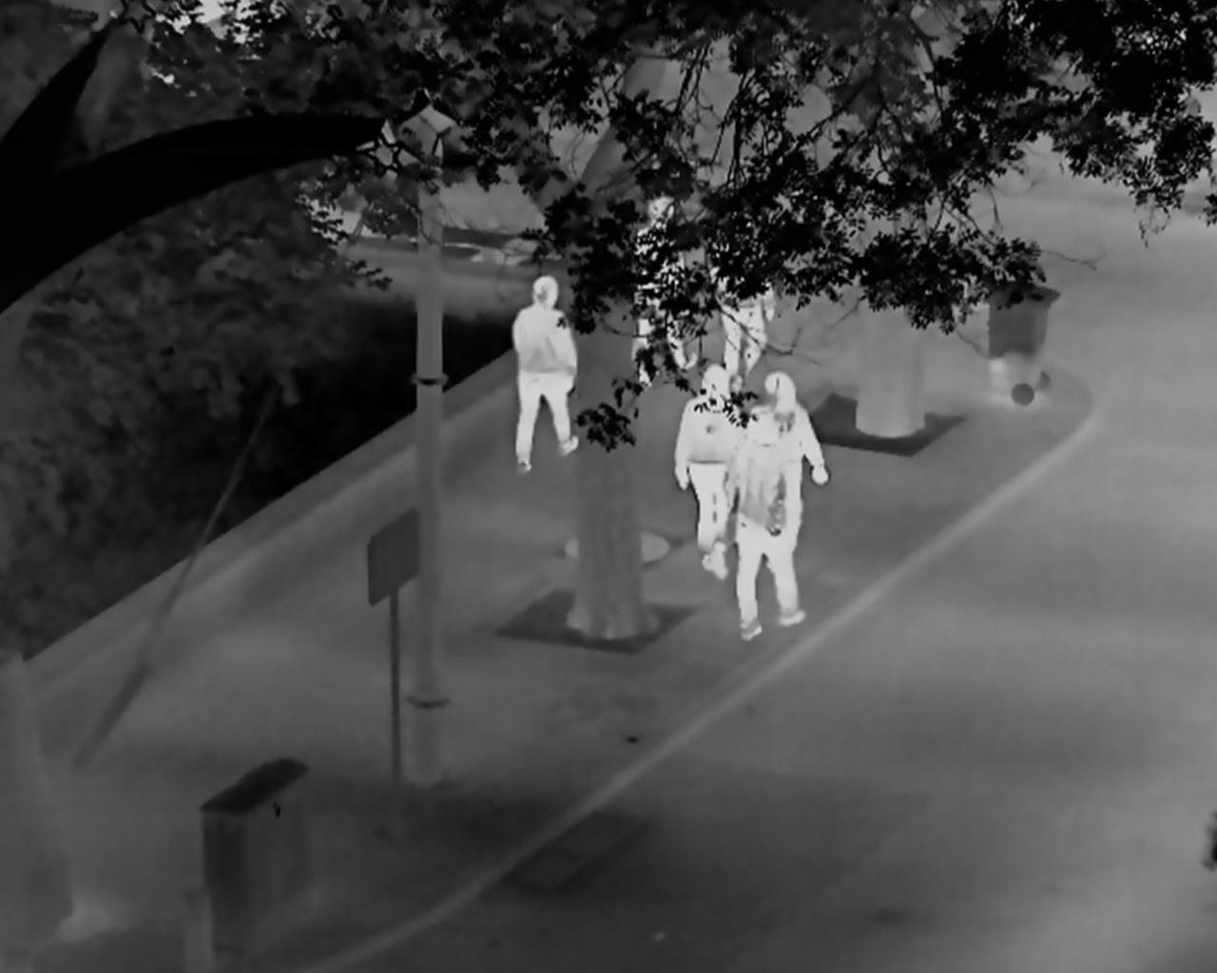person: (730, 408, 806, 641), (509, 274, 580, 475), (672, 363, 734, 578), (632, 196, 699, 386), (706, 200, 776, 374), (745, 370, 830, 489)
